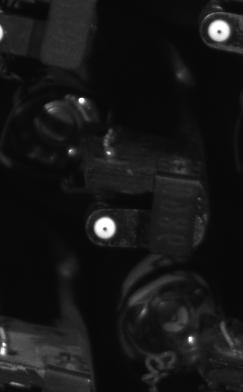fiber: (90, 212, 125, 246), (205, 14, 234, 46)
